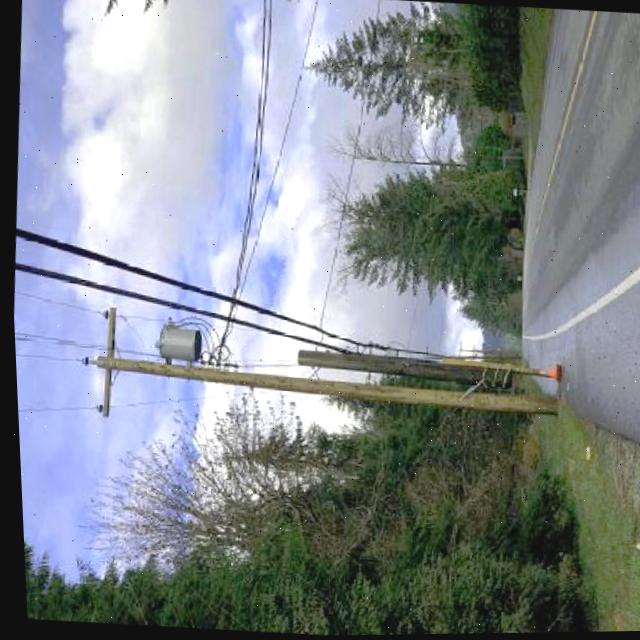poles: (68, 294, 564, 464)
wires: (14, 217, 352, 352), (227, 0, 323, 287), (318, 0, 383, 309)
